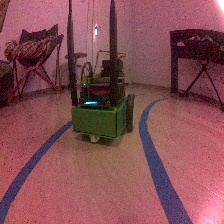rob: (70, 58, 136, 144)
